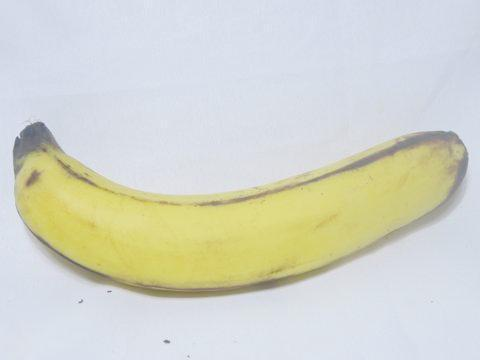ripe: (5, 95, 474, 310)
